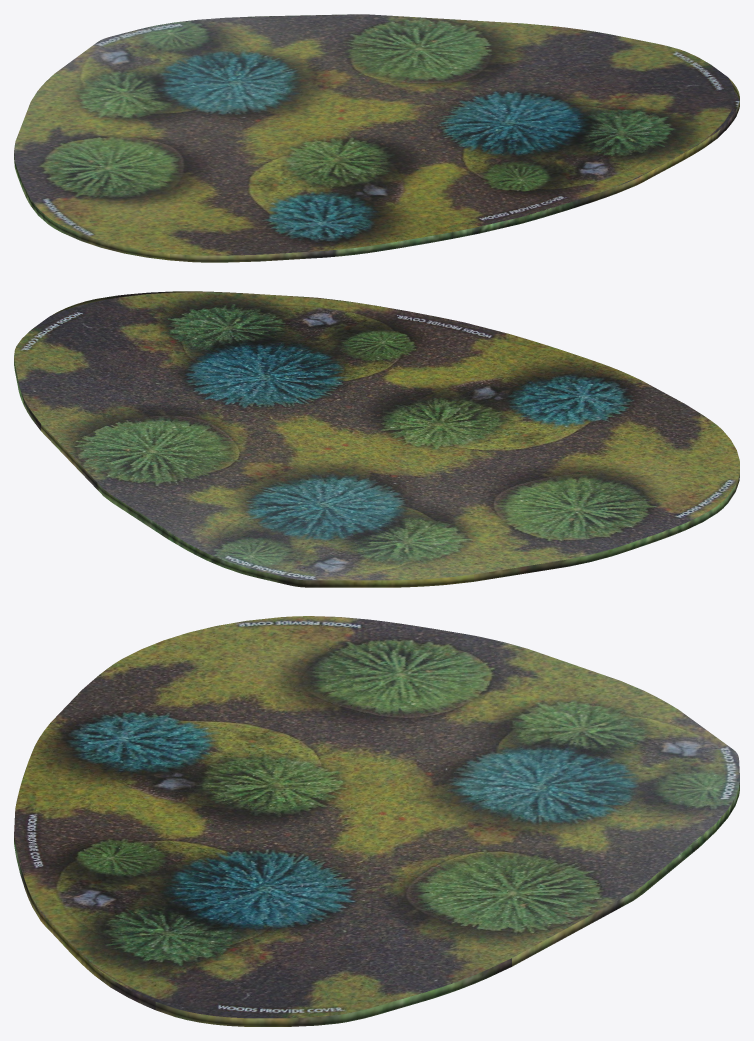
The model's file is woods1.fbx.
3 renders of one model, top to bottom at view 1: azimuth 30°, elevation 25°; view 2: azimuth 150°, elevation 25°; view 3: azimuth 270°, elevation 25°, orthographic. The views are drawn at different scales.
Visible parts, largest first — view 1: Woods1Mesh; view 2: Woods1Mesh; view 3: Woods1Mesh.
Part boxes in pixels (bbox=[...]): Woods1Mesh: bbox=[14, 14, 739, 262]; Woods1Mesh: bbox=[14, 291, 739, 587]; Woods1Mesh: bbox=[14, 616, 739, 1026].
Bounding box in the file's own units: 1001 × 10 × 763.
Materials: 1 (1 with a texture image).
